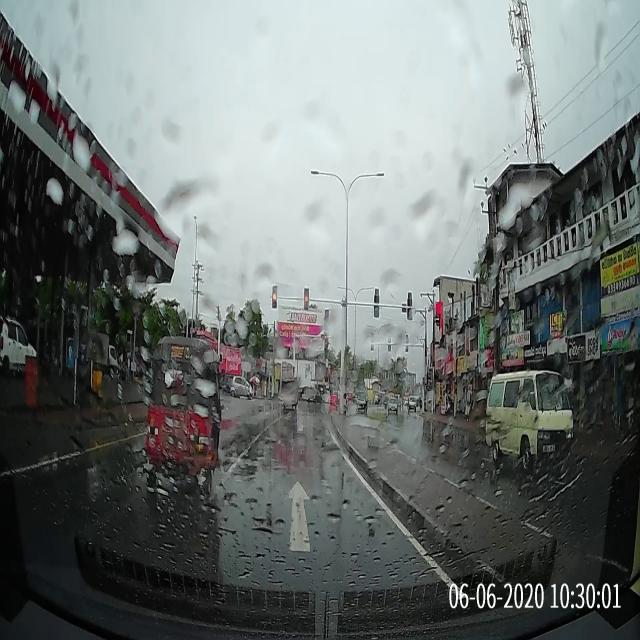Strelka vpered: (285, 480, 313, 553)
